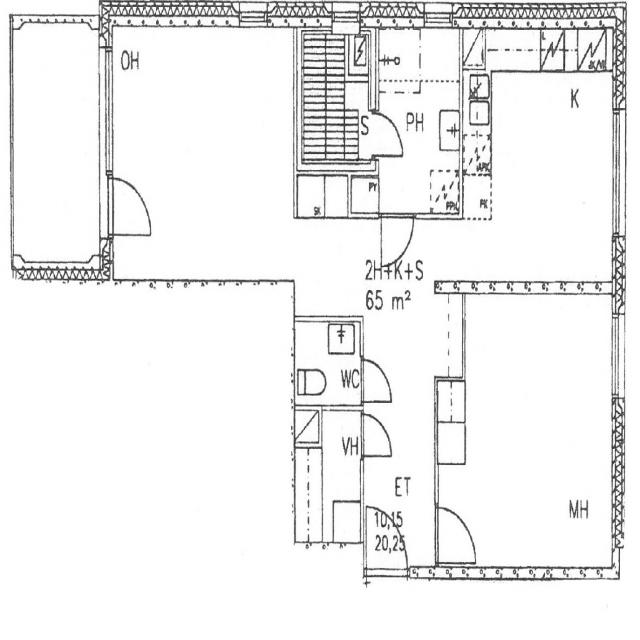door: (366, 504, 407, 578), (99, 179, 150, 236), (434, 507, 475, 562), (368, 112, 407, 156), (382, 213, 414, 266), (360, 359, 392, 402), (360, 414, 392, 456)
